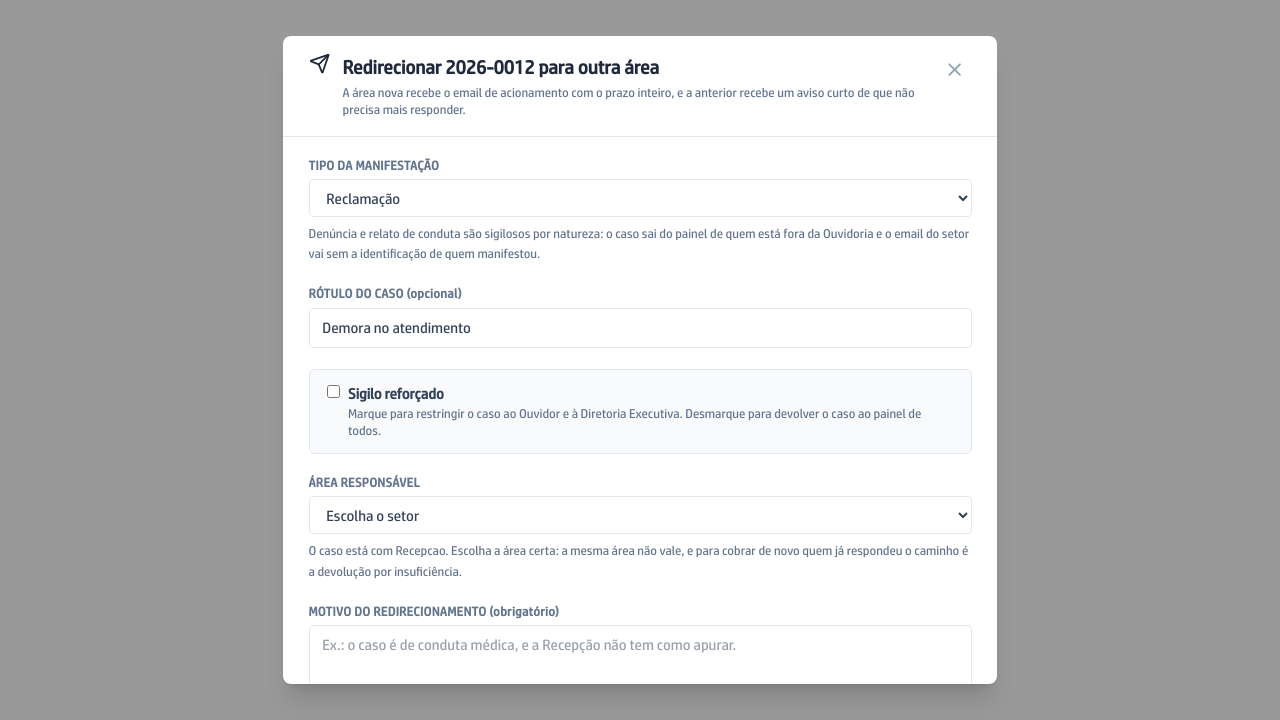
Test case: o motivo é obrigatório, e quem tem o que dizer passa › sem motivo o botão não confirma
Select "Centro Medico" in the dropdown labelled "Área responsável" at [640, 516], box [308,496,972,534]
(page scrolled)
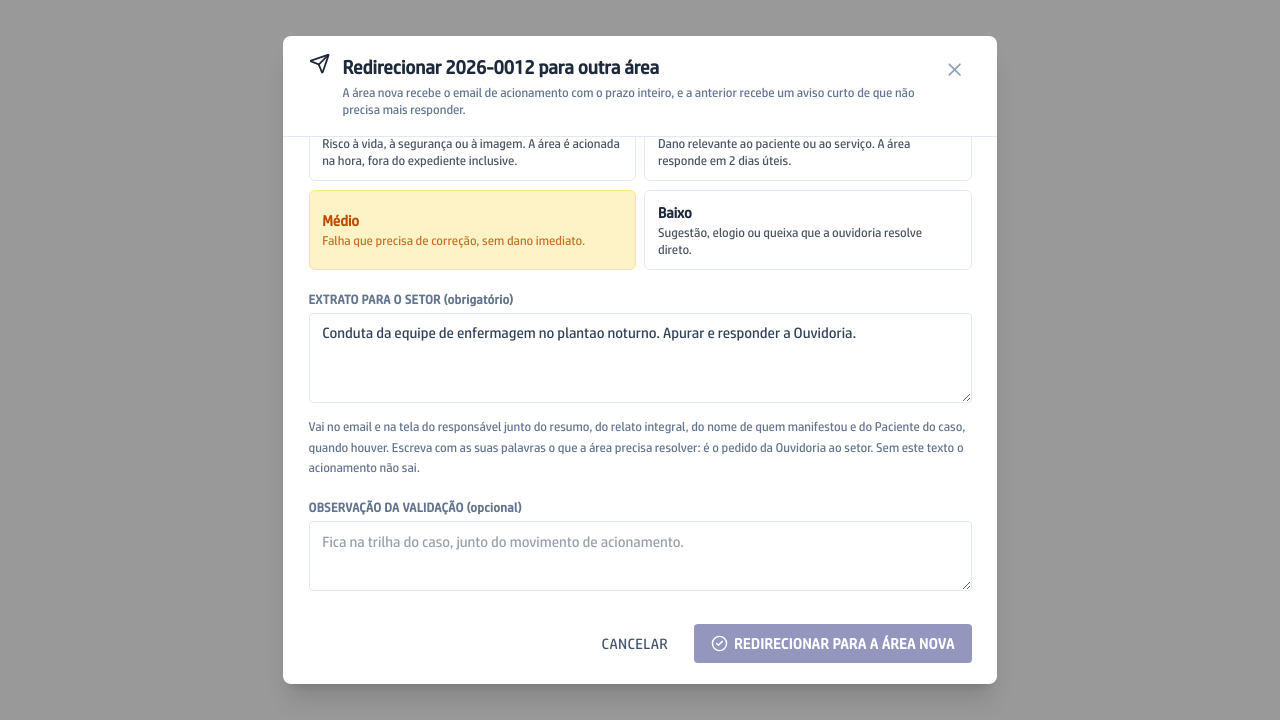
Expected: the button "Redirecionar para a área nova" is disabled, [694,624,972,663]
